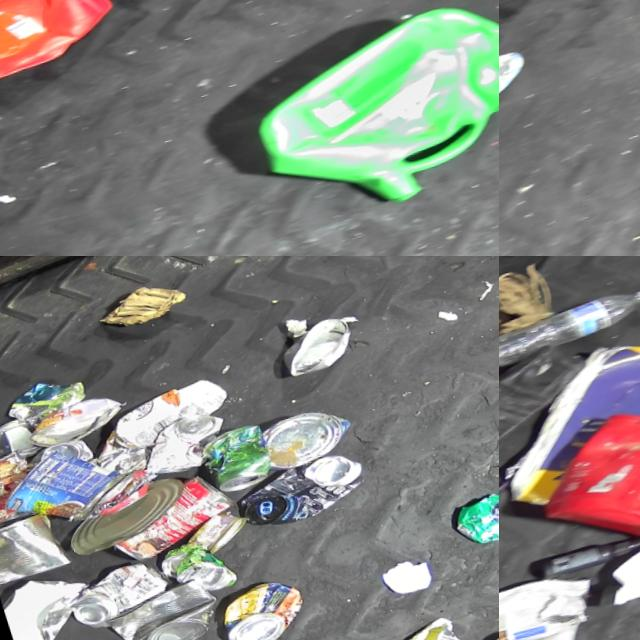can: (91, 469, 236, 572), (0, 434, 129, 545), (225, 452, 366, 543), (51, 476, 187, 561), (54, 557, 167, 637), (90, 575, 218, 640), (127, 411, 231, 488), (499, 567, 605, 640), (251, 405, 352, 480), (16, 393, 125, 455), (191, 427, 272, 505), (204, 577, 304, 640), (271, 318, 360, 388), (148, 537, 231, 608), (0, 507, 66, 587), (441, 485, 499, 561), (174, 510, 245, 565), (20, 436, 90, 479), (0, 448, 34, 531), (0, 413, 38, 468)
non_white_jug: (224, 0, 499, 250), (510, 375, 640, 581), (0, 0, 129, 108)
plastic_bottle: (499, 289, 640, 378)
